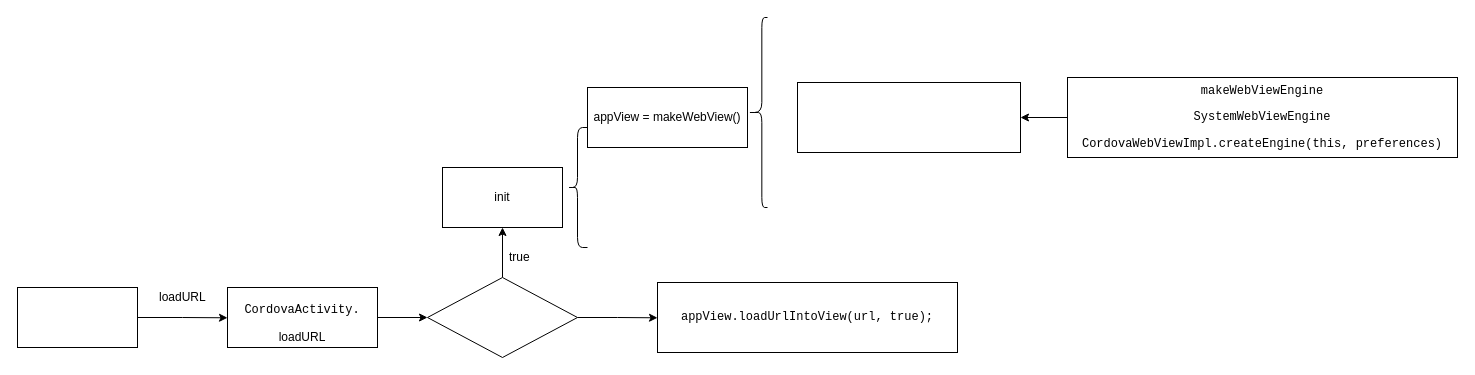
Image size: 1475x375. Some labels were removed from this diagram. The shapes that lost their labels are listed below. From the top down, each one's centre as x and y in pixels, then its label:
At [908,117]: "new CordovaWebViewImpl(engine)".
At [77,317]: "MainActivity. loadURL".
At [502,317]: "appView == null".
